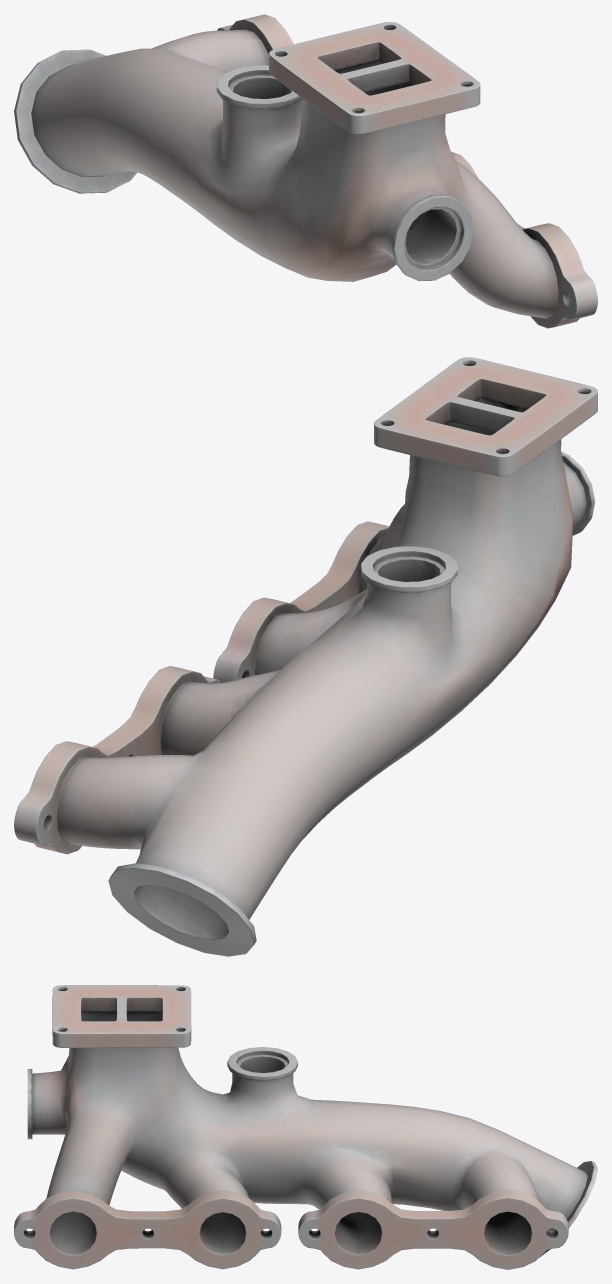
File: turbo_manifold.glb
3 views of the same model, one above another, from view 1: azimuth 30°, elevation 25°; view 2: azimuth 150°, elevation 25°; view 3: azimuth 270°, elevation 25° (orthographic). The views are drawn at different scales.
Visible parts, largest first — view 1: turbo_manifold; view 2: turbo_manifold; view 3: turbo_manifold.
Boxes of the visible parts, left/top/right/bottom form: turbo_manifold: left=14, top=14, right=597, bottom=328; turbo_manifold: left=14, top=357, right=597, bottom=956; turbo_manifold: left=14, top=985, right=597, bottom=1269.
Size of the model in its own units: 0.3347 by 0.4612 by 1.
Materials: 1 (1 with a texture image).
